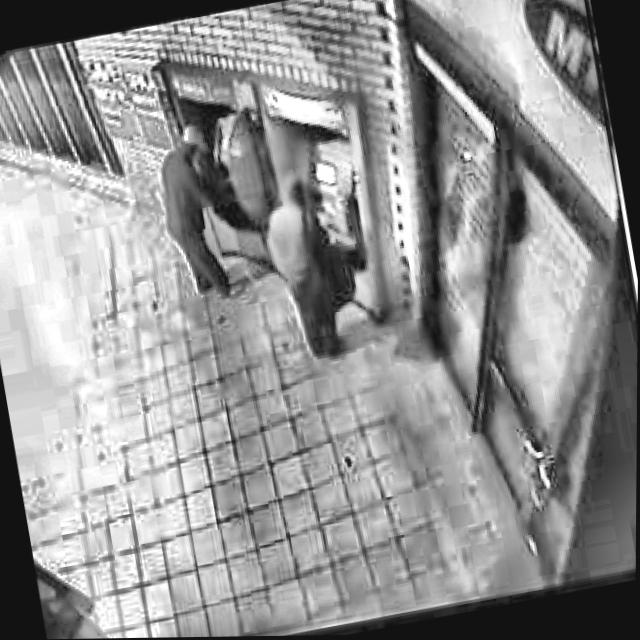burglary: (139, 83, 388, 391)
